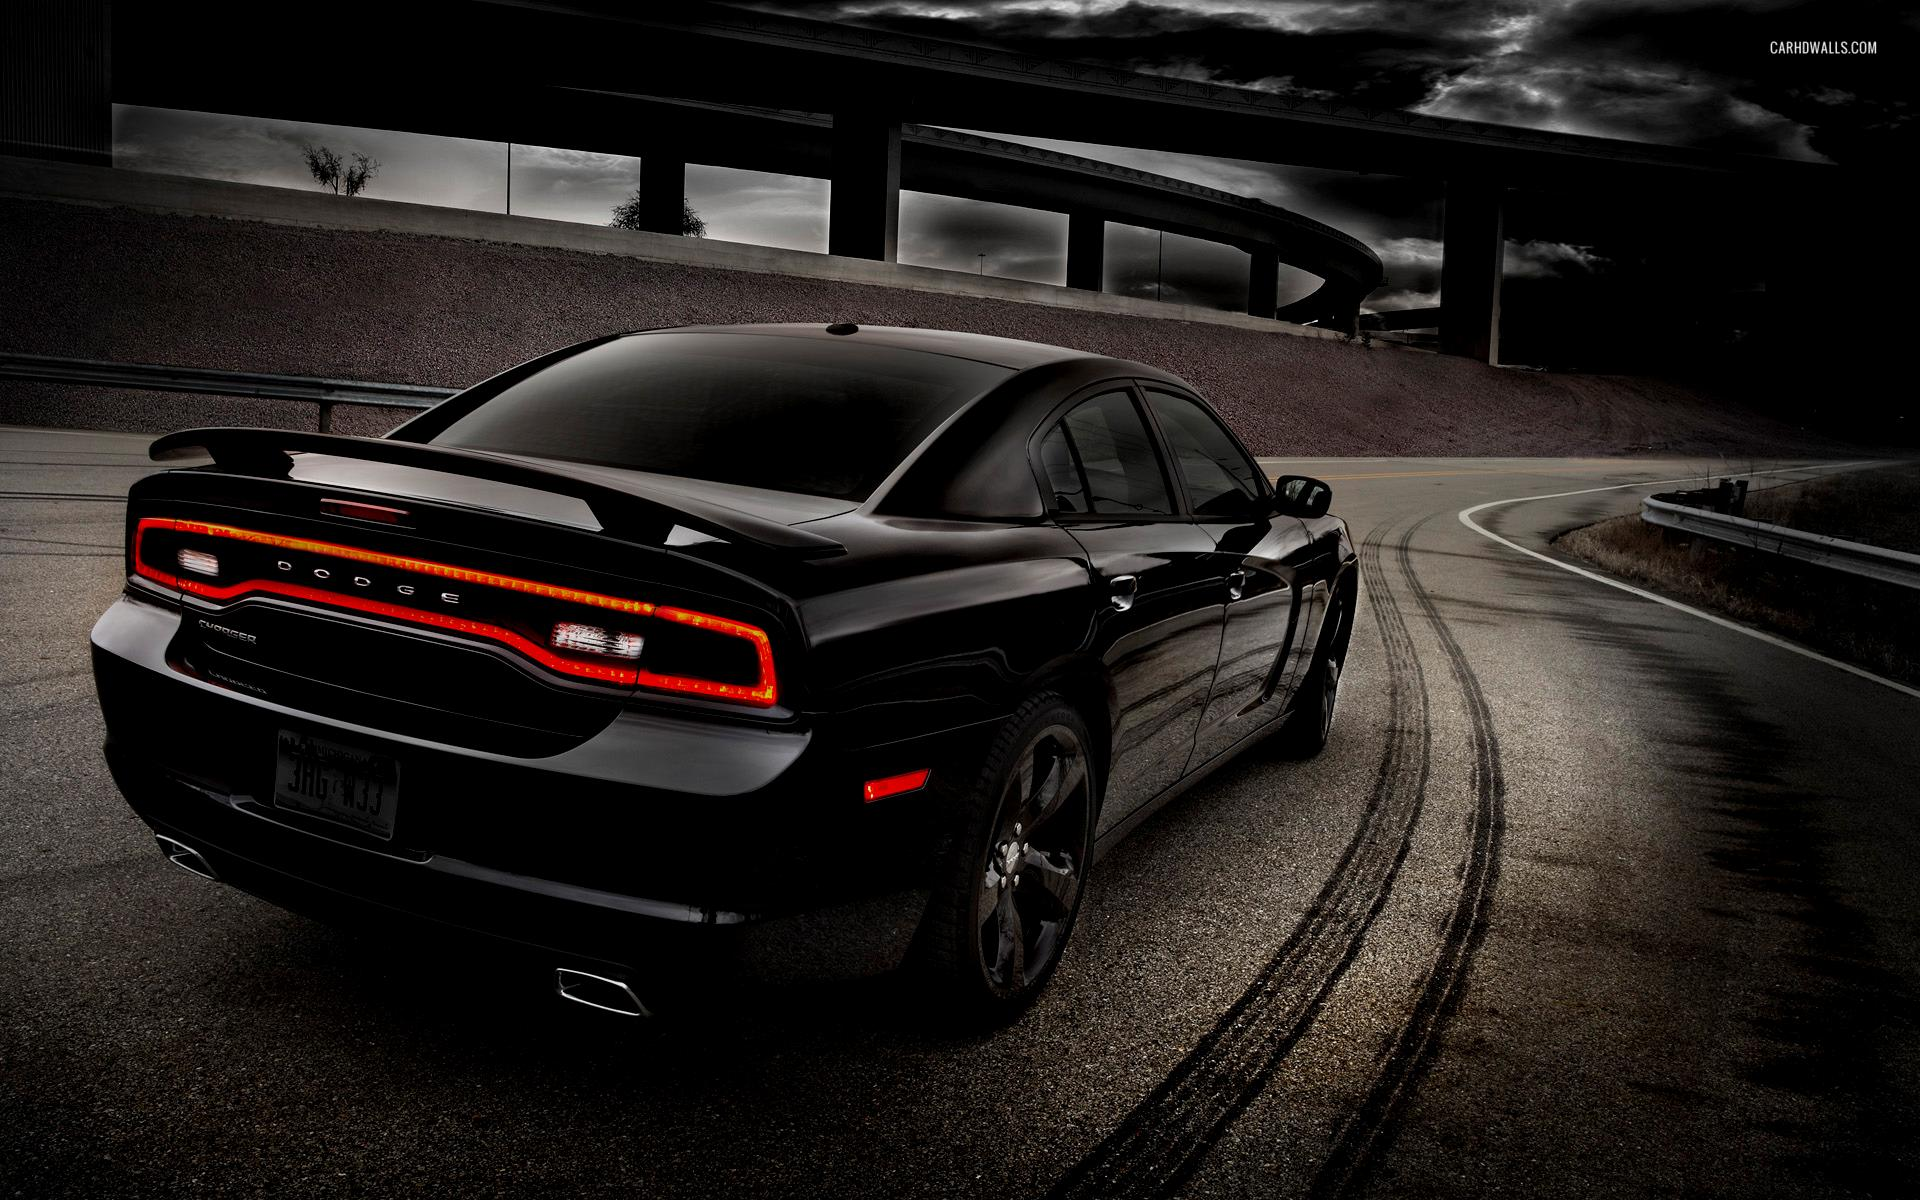dodge: (256, 534, 473, 636)
